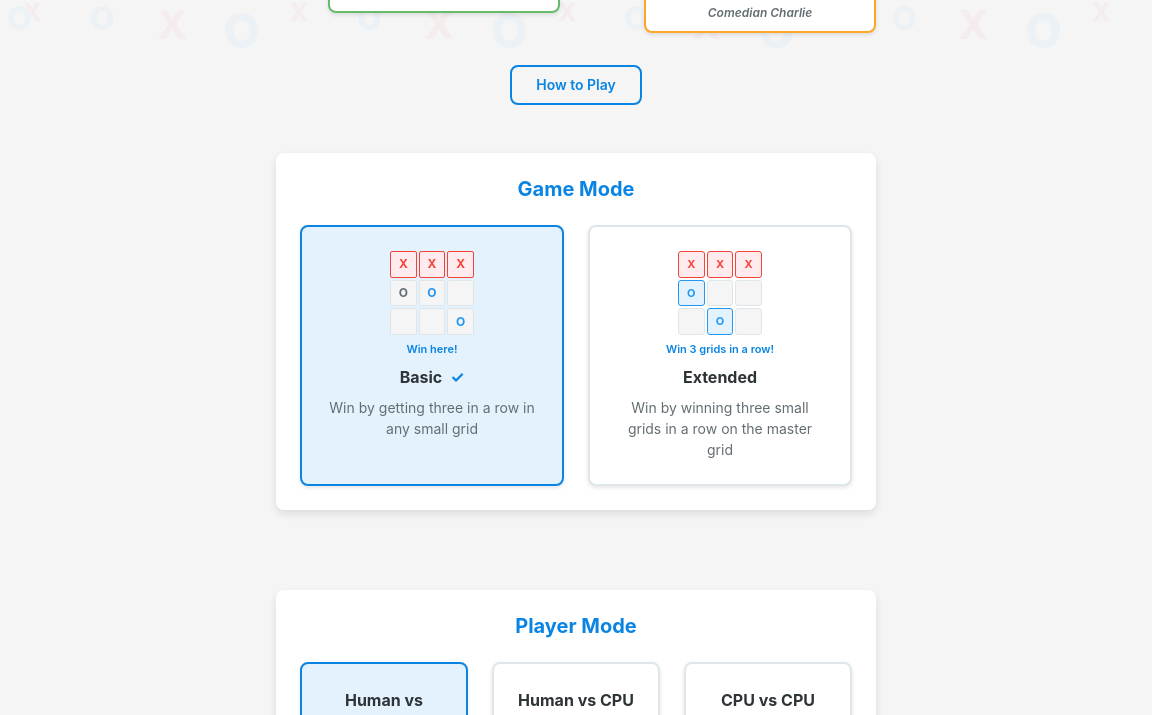
Scenario: Game Flow Integration › should switch game modes correctly
(page scrolled)
# Select extended mode
Click the radio button with aria-label "extended game mode" at (720, 356), box [588,225,852,486]
(page scrolled)
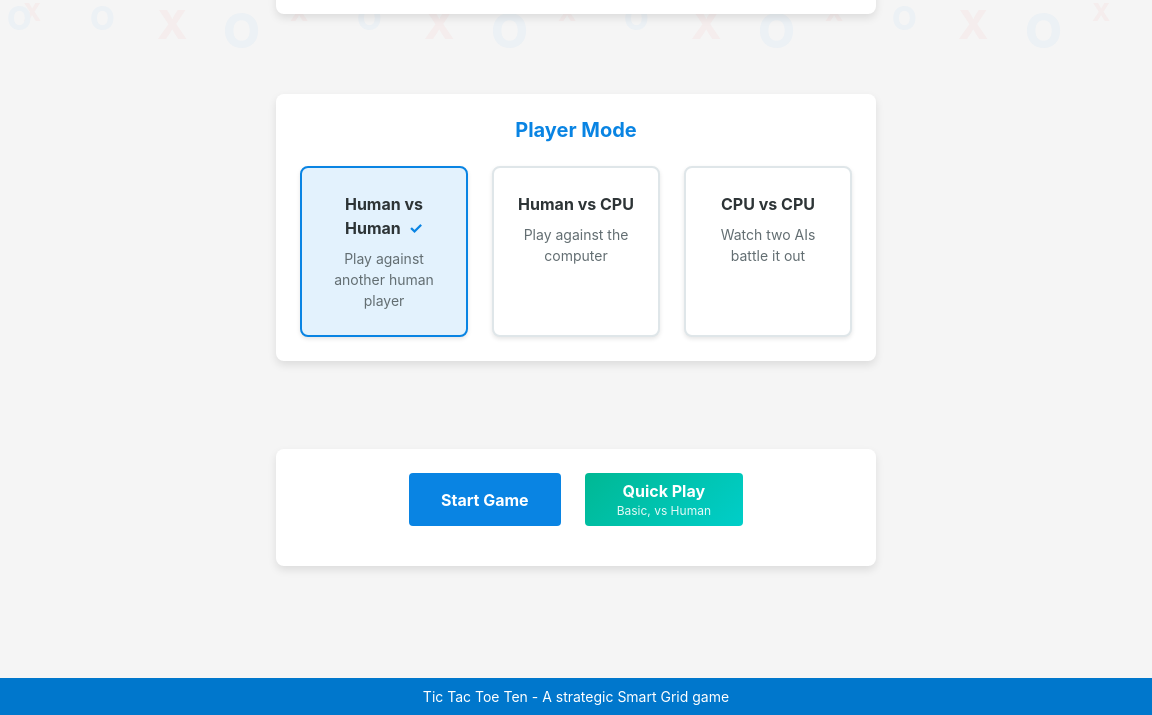
# Start the game
Click the button "Start Game" at (485, 500), box [409,473,561,526]
(page scrolled)
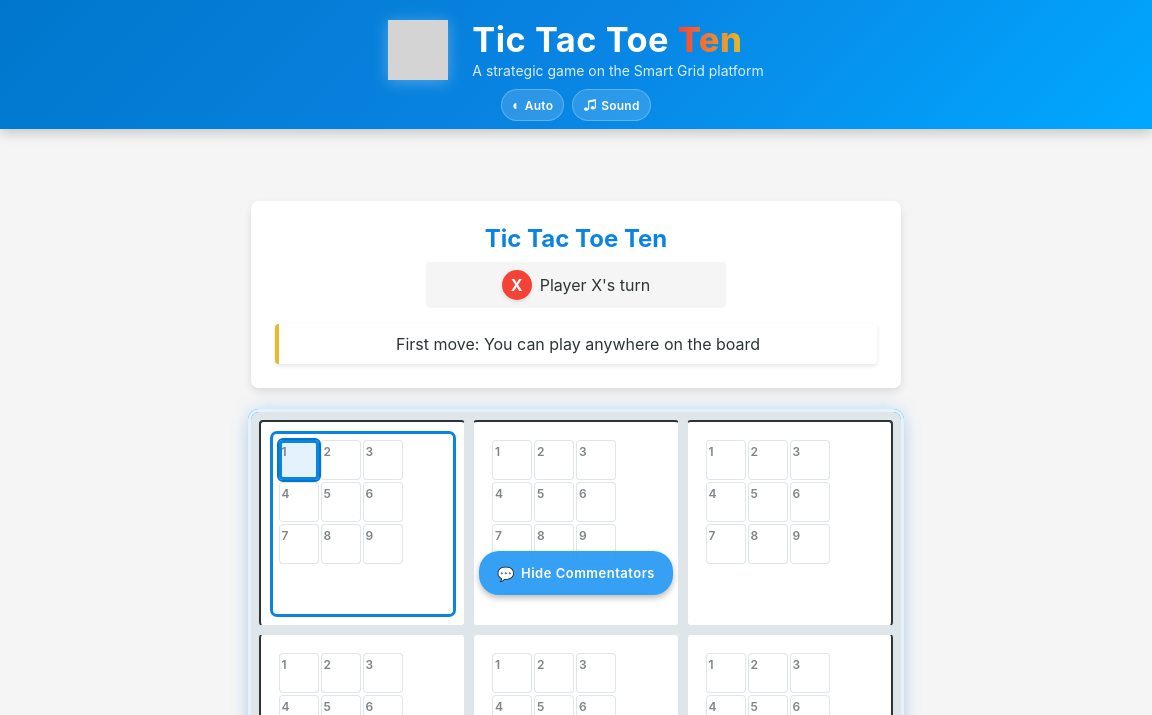
expect the text "Player X's turn" is shown: met, box [540,273,650,297]
